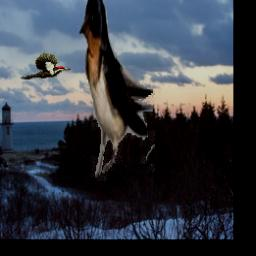Swallow: (78, 0, 156, 183)
Woodpecker: (22, 53, 72, 79)
